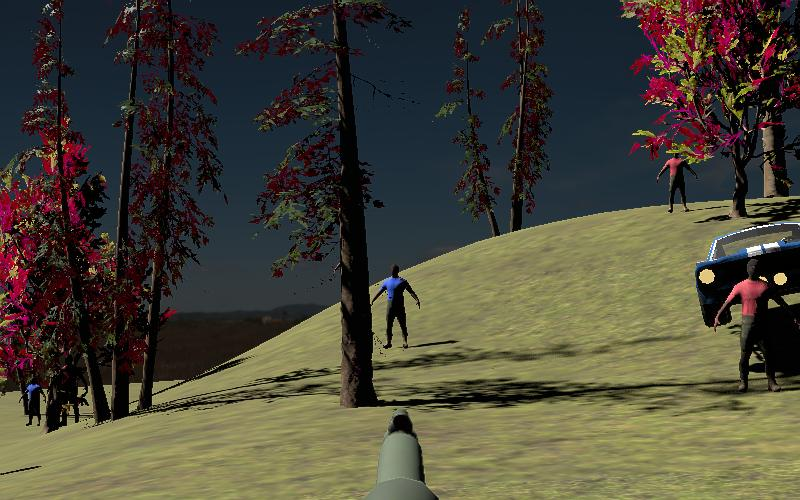Human: (713, 257, 792, 394), (369, 262, 421, 350), (657, 148, 698, 213), (23, 374, 46, 428)
car: (694, 219, 800, 327)
